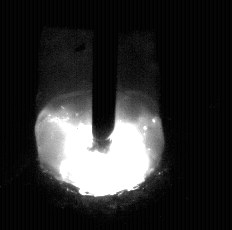arame: (93, 0, 117, 153)
poca: (36, 0, 164, 230)
